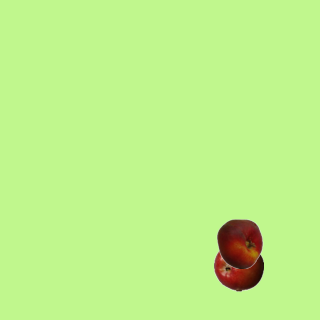Apple Braeburn: (213, 241, 263, 291)
Nectarine Flat: (214, 218, 264, 268)
